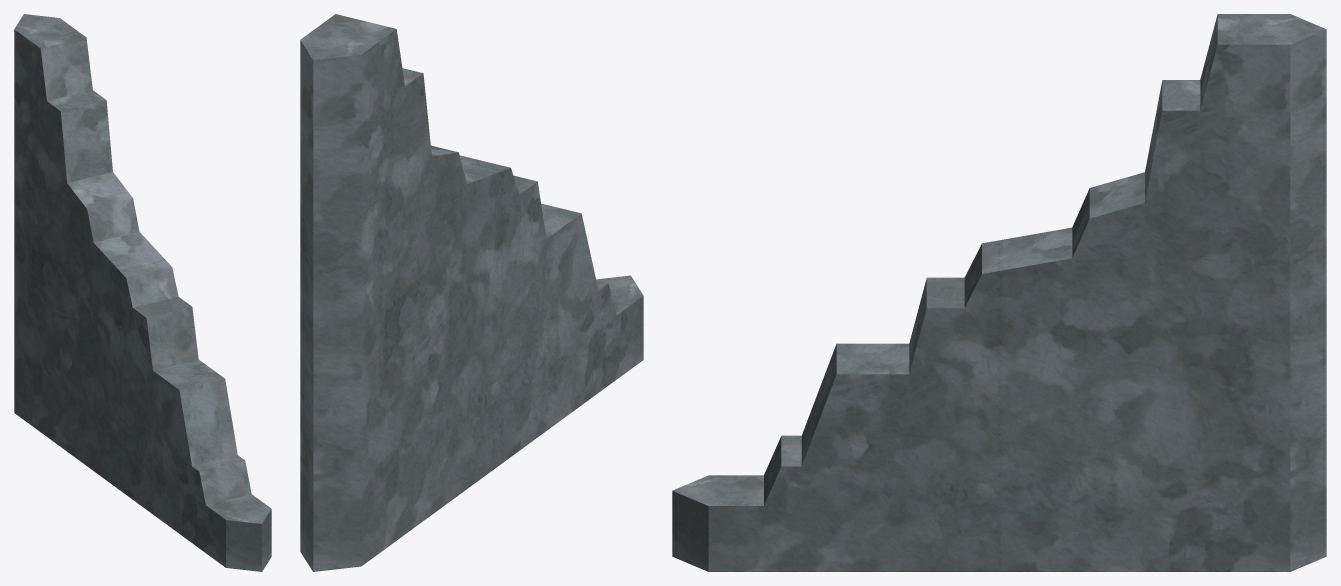
Rendered from wall_destroyed.fbx.
3 renders of one model, left to right at view 1: azimuth 30°, elevation 25°; view 2: azimuth 150°, elevation 25°; view 3: azimuth 270°, elevation 25°, orthographic. The views are drawn at different scales.
Parts seen in each view (by area): view 1: wall_destroyedSlope; view 2: wall_destroyedSlope; view 3: wall_destroyedSlope.
Part boxes in pixels (left/top/right/bottom): wall_destroyedSlope: left=14, top=14, right=271, bottom=571; wall_destroyedSlope: left=300, top=14, right=643, bottom=571; wall_destroyedSlope: left=672, top=14, right=1326, bottom=571.
Size of the model in its own units: 1.25 by 10 by 11.25.
1 material, 1 textured.
